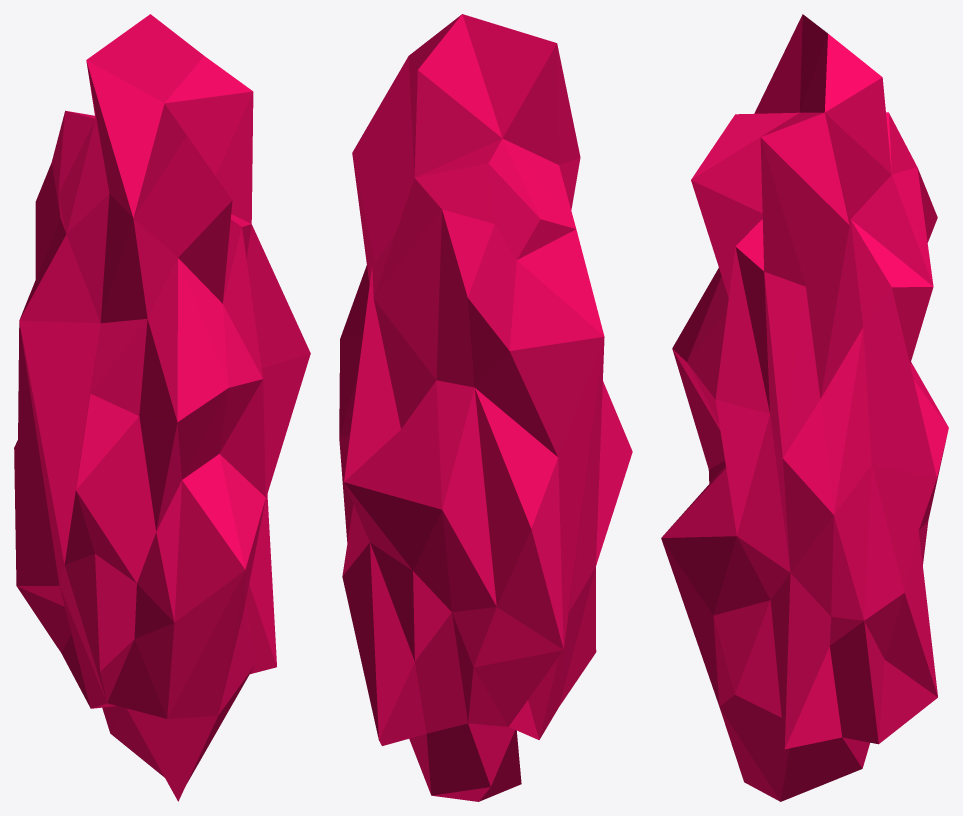
Rendered from Crystal_014.fbx.
3 renders of one model, left to right at view 1: azimuth 30°, elevation 25°; view 2: azimuth 150°, elevation 25°; view 3: azimuth 270°, elevation 25°, orthographic. The views are drawn at different scales.
Visible parts, largest first — view 1: Crystal.014; view 2: Crystal.014; view 3: Crystal.014.
Boxes of the visible parts, box(x1,y1,x2,y2) form: Crystal.014: box(14, 14, 310, 801); Crystal.014: box(339, 14, 632, 801); Crystal.014: box(661, 14, 948, 801).
Bounding box in the file's own units: 228 × 613 × 209.
